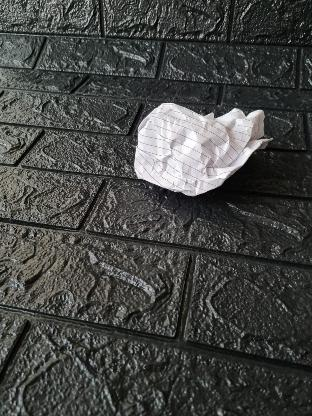Paper: (129, 100, 275, 192)
